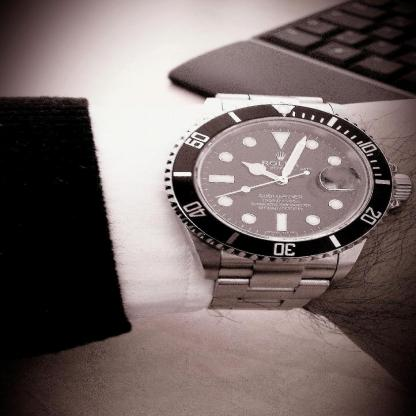board: (183, 0, 416, 98)
